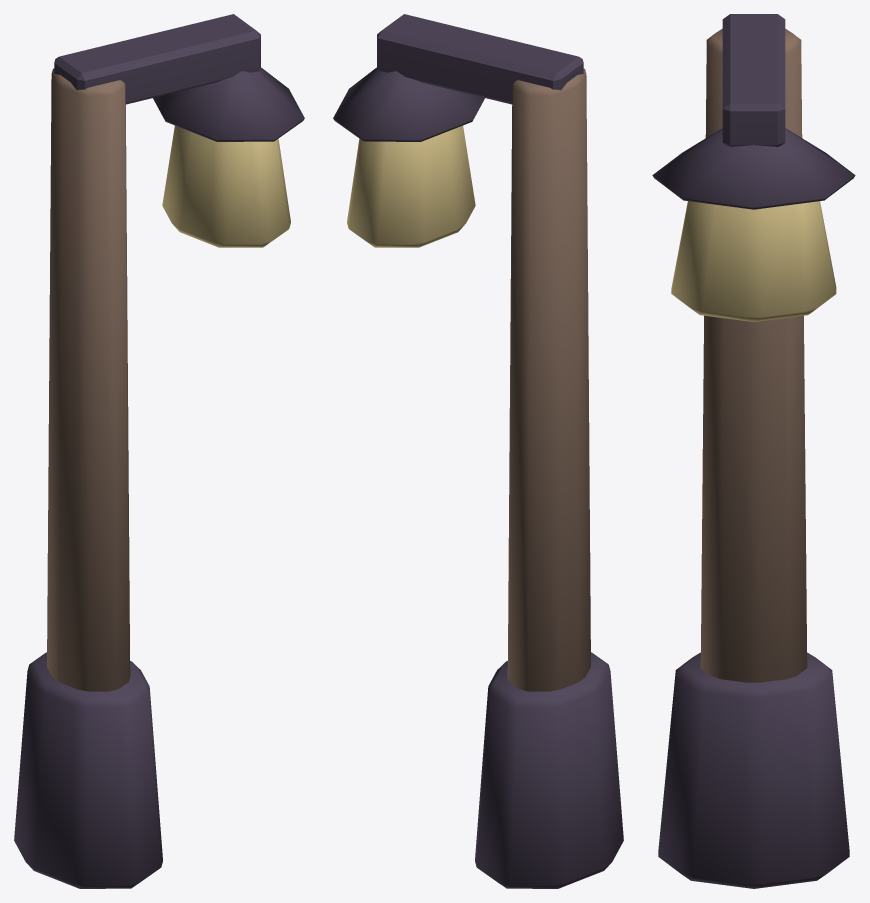
File: streetlight.glb
3 views of the same model, side by side, from view 1: azimuth 30°, elevation 25°; view 2: azimuth 150°, elevation 25°; view 3: azimuth 270°, elevation 25° (orthographic). The views are drawn at different scales.
Visible parts, largest first — view 1: streetlight; view 2: streetlight; view 3: streetlight.
Part boxes in pixels (x1,y1,x2,y2): streetlight: (14, 14, 304, 888); streetlight: (333, 14, 623, 888); streetlight: (652, 14, 855, 888).
Bounding box in the file's own units: 0.34 × 1 × 0.22.
